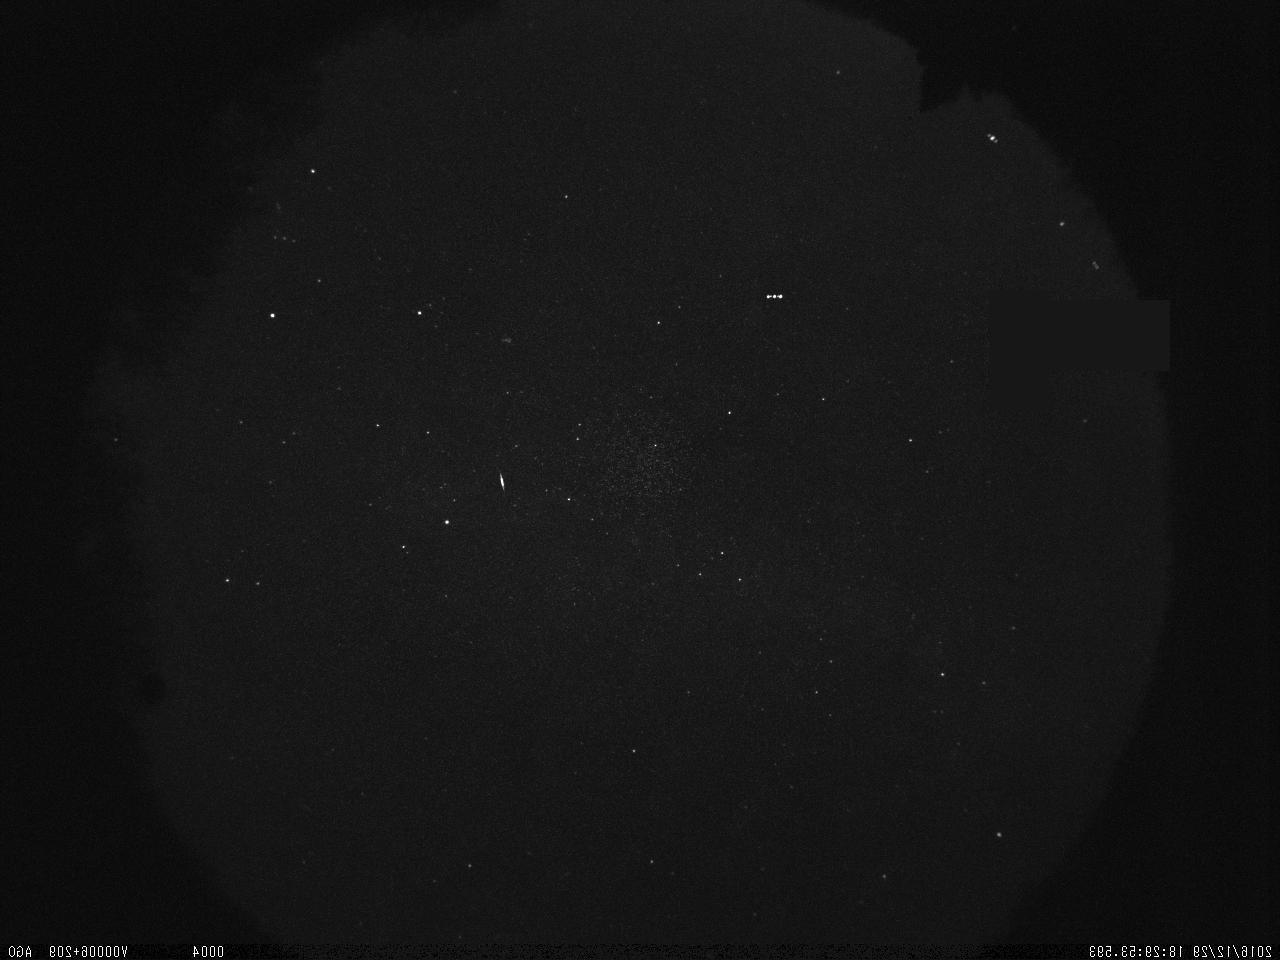meteor: (493, 464, 511, 495)
satelite: (756, 283, 791, 307)
